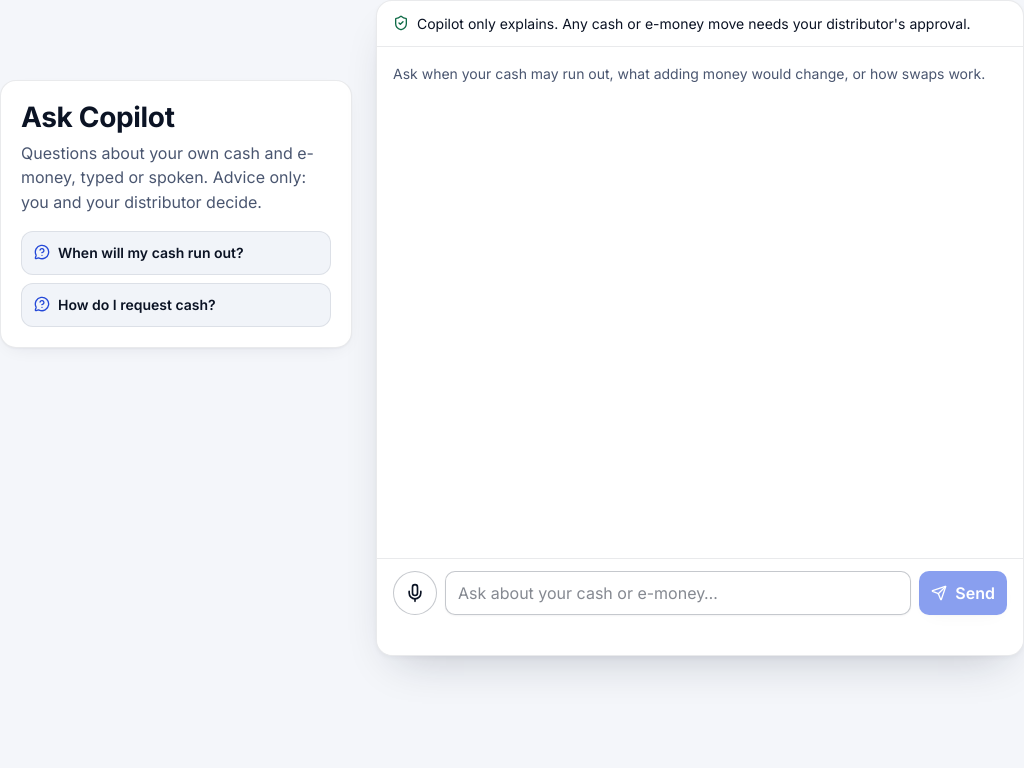
Test: copilot suggestion chips › sends the exact suggestion text and shows the labelled answer
Click the button "When will my cash run out?" at (176,253), box left=21, top=231, right=331, bottom=275
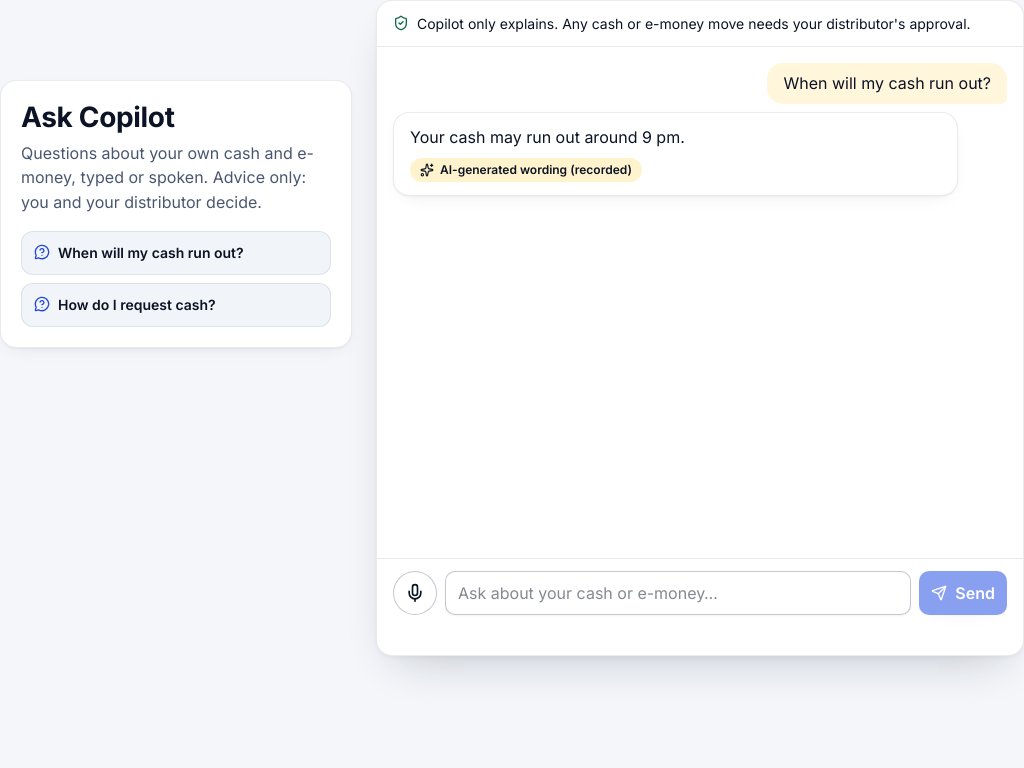
Expected: the text "Your cash may run out around 9 pm." is shown, left=410, top=127, right=685, bottom=147
Expected: the text with test id "copilot-question" reads "When will my cash run out?", left=783, top=73, right=991, bottom=93
Expected: the element showing "AI-generated wording (recorded)" is shown, left=410, top=158, right=642, bottom=182
